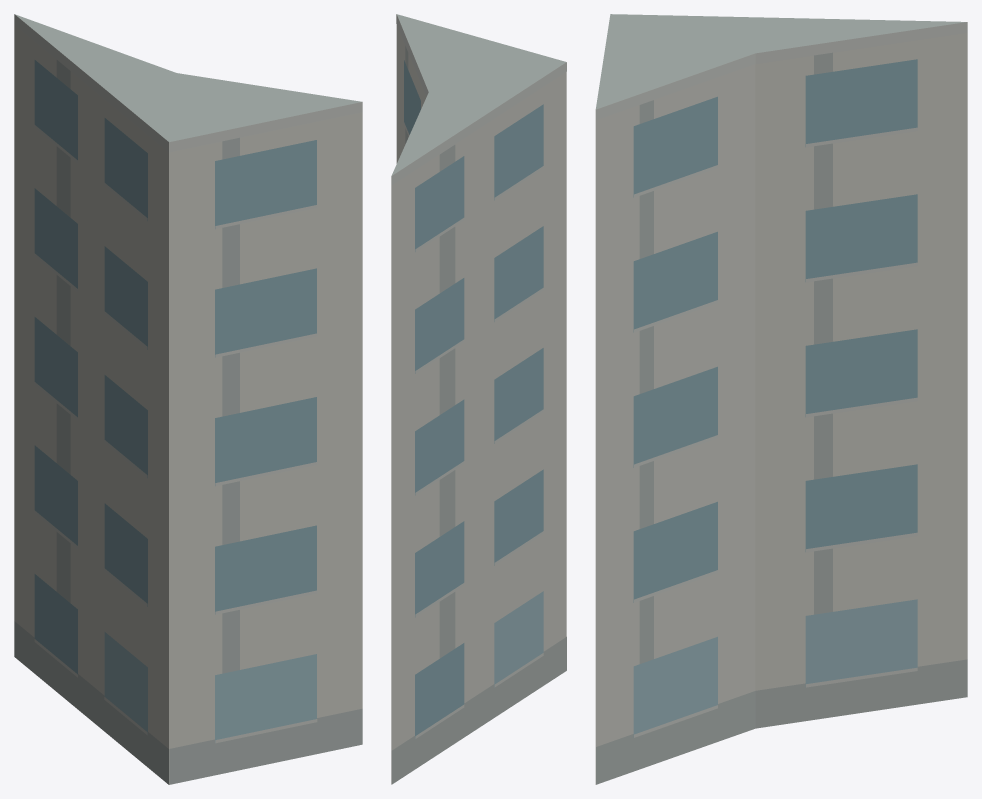
File: survey-upis-32583647.glb
3 renders of one model, left to right at view 1: azimuth 30°, elevation 25°; view 2: azimuth 150°, elevation 25°; view 3: azimuth 270°, elevation 25°, orthographic. The views are drawn at different scales.
Visible parts, largest first — view 1: survey-upis-32583647.tmp; view 2: survey-upis-32583647.tmp; view 3: survey-upis-32583647.tmp.
Part boxes in pixels (bbox=[...]): survey-upis-32583647.tmp: bbox=[14, 14, 362, 784]; survey-upis-32583647.tmp: bbox=[391, 14, 566, 784]; survey-upis-32583647.tmp: bbox=[595, 14, 967, 784].
Bounding box in the file's own units: 4.64 × 15.25 × 7.62.
